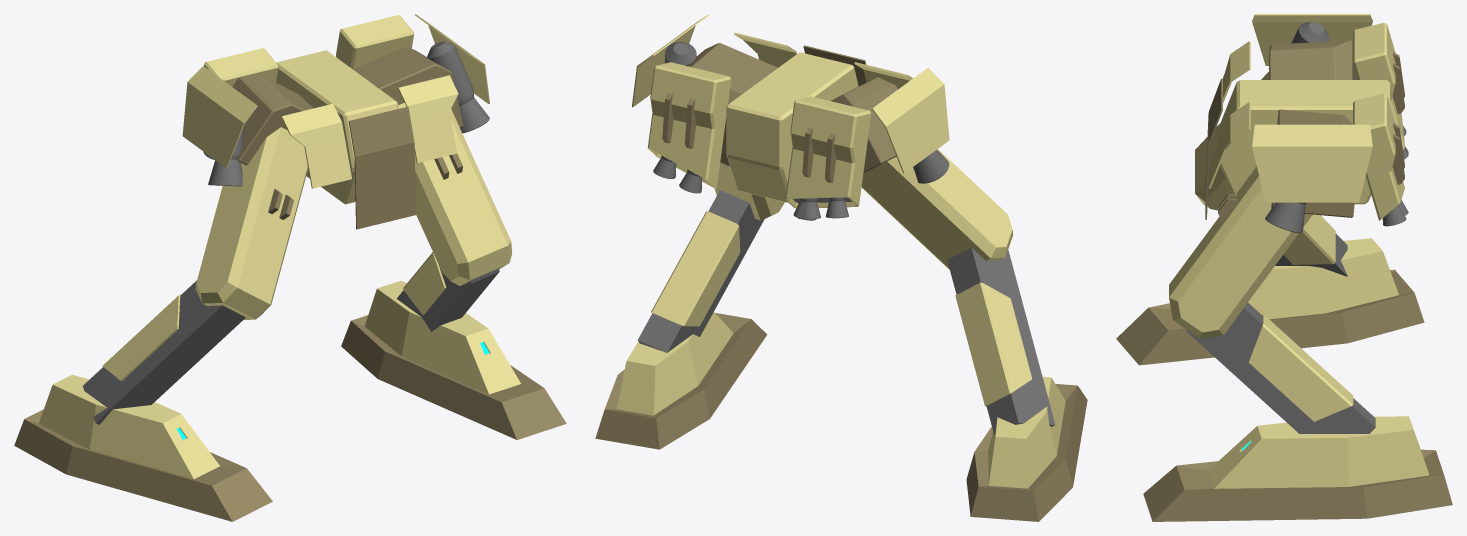
Rendered from LegsLeft.fbx.
The picture shows the model from 3 angles, left to right: view 1: azimuth 30°, elevation 25°; view 2: azimuth 150°, elevation 25°; view 3: azimuth 270°, elevation 25°; orthographic projection. The views are drawn at different scales.
Visible parts, largest first — view 1: pasted__pCube48, pasted__pCube47, pasted__pCube37, pasted__pCube31, pasted__pCube38, pasted__pasted__pCube36, pasted__pasted__pCube32, pasted__pPlane1, pasted__pCube33 (×2), pasted__pPlane4, pasted__pPlane3, pasted__pasted__pCube40 (+7 smaller); view 2: pasted__pCube47, pasted__pCube33 (×2), pasted__pCube48, pasted__pasted__pCube32, pasted__pCube37, pasted__pCube43, pasted__pCube39, pasted__pCube38, pasted__pPlane1, pasted__pCube32, pasted__pasted__pCube39, pasted__pasted__pCube40 (+9 smaller); view 3: pasted__pCube47, pasted__pCube48, pasted__pCube31, pasted__pPlane2, pasted__pCube33 (×2), pasted__pasted__pCube32, pasted__pCube32, pasted__pCube43, pasted__pasted__pCube40, pasted__pPlane1, pasted__pCube39, pasted__pasted__pCube39 (+9 smaller).
Boxes of the visible parts, box(x1,y1,x2,y2) form: pasted__pCube48: box(14, 375, 272, 521); pasted__pCube47: box(341, 280, 566, 439); pasted__pCube37: box(195, 127, 308, 319); pasted__pCube31: box(398, 103, 512, 285); pasted__pCube38: box(83, 280, 245, 424); pasted__pasted__pCube36: box(348, 106, 415, 229); pasted__pasted__pCube32: box(276, 50, 398, 204); pasted__pPlane1: box(182, 66, 257, 168); pasted__pCube33 (×2): box(102, 252, 446, 381); pasted__pPlane4: box(281, 104, 351, 188); pasted__pPlane3: box(398, 75, 458, 162); pasted__pasted__pCube40: box(232, 77, 313, 174); pasted__pCube47: box(595, 312, 767, 449); pasted__pCube33 (×2): box(651, 211, 1032, 406); pasted__pCube48: box(966, 376, 1087, 521); pasted__pasted__pCube32: box(726, 52, 858, 202); pasted__pCube37: box(861, 149, 1013, 269); pasted__pCube43: box(647, 62, 731, 188); pasted__pCube39: box(785, 96, 871, 208); pasted__pCube38: box(947, 247, 1055, 435); pasted__pPlane1: box(872, 67, 949, 173); pasted__pCube32: box(638, 190, 764, 352); pasted__pasted__pCube39: box(687, 43, 777, 166); pasted__pasted__pCube40: box(831, 77, 897, 173); pasted__pCube47: box(1143, 416, 1452, 521); pasted__pCube48: box(1116, 238, 1424, 365); pasted__pCube31: box(1169, 166, 1312, 338); pasted__pPlane2: box(1252, 124, 1372, 202); pasted__pCube33 (×2): box(1248, 214, 1353, 421); pasted__pasted__pCube32: box(1217, 80, 1389, 204); pasted__pCube32: box(1186, 303, 1375, 433); pasted__pCube43: box(1353, 93, 1404, 220); pasted__pasted__pCube40: box(1269, 40, 1358, 79); pasted__pPlane1: box(1252, 14, 1372, 65); pasted__pCube39: box(1353, 22, 1404, 149); pasted__pasted__pCube39: box(1271, 109, 1354, 217).
Bounding box in the file's own units: 18.84 × 14.31 × 11.76.
